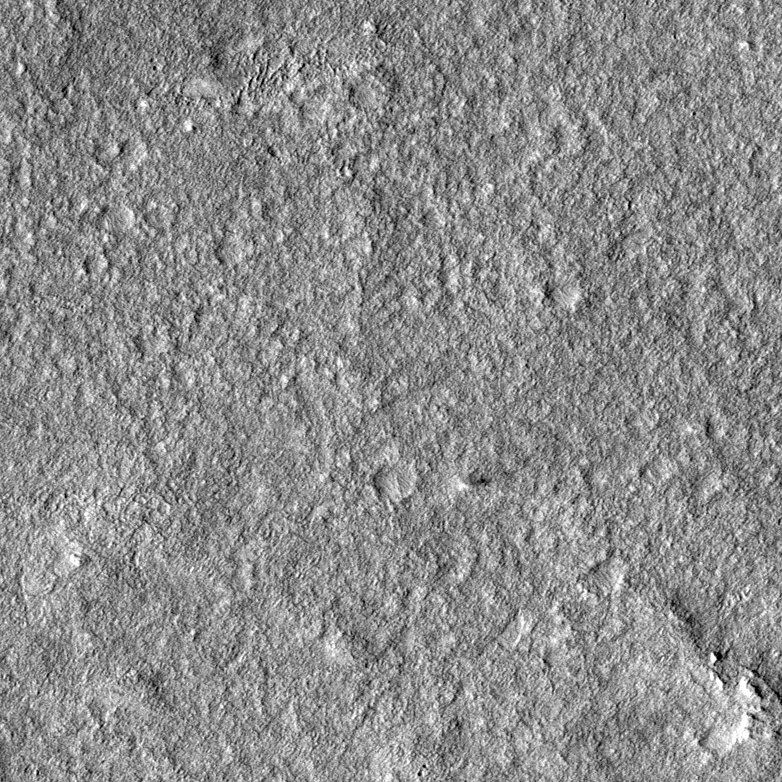dust_devil: (455, 473, 493, 491)
